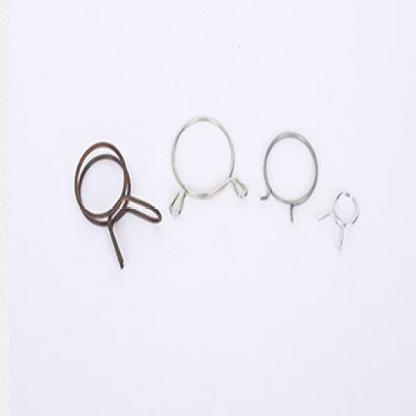FOD: (74, 139, 164, 270), (167, 114, 250, 220), (258, 127, 322, 227), (318, 184, 361, 256)
